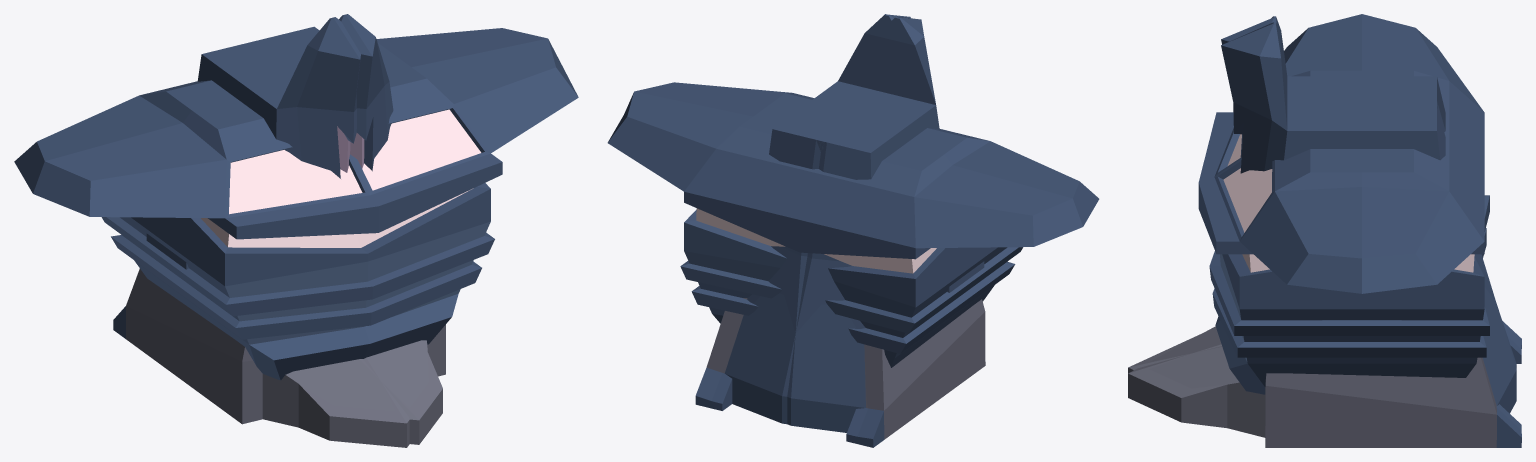
File: RoboDesOne_paarts.fbx
3 views of the same model, side by side, from view 1: azimuth 30°, elevation 25°; view 2: azimuth 150°, elevation 25°; view 3: azimuth 270°, elevation 25° (orthographic). The views are drawn at different scales.
Parts seen in each view (by area): view 1: RoboOneBody, RoboOneFootR, RoboOne.FootL; view 2: RoboOneBody, RoboOneFootR, RoboOne.FootL; view 3: RoboOneBody, RoboOne.FootL, RoboOneFootR.
Boxes of the visible parts, box(x1,y1,x2,y2) form: RoboOneBody: box(14, 28, 578, 380); RoboOneFootR: box(113, 14, 442, 444); RoboOne.FootL: box(197, 17, 445, 447); RoboOneBody: box(607, 82, 1099, 367); RoboOneFootR: box(711, 14, 985, 447); RoboOne.FootL: box(695, 16, 939, 443); RoboOneBody: box(1198, 14, 1489, 394); RoboOne.FootL: box(1128, 16, 1521, 447); RoboOneFootR: box(1128, 22, 1521, 429).
Bounding box in the file's own units: 773 × 577 × 502.
